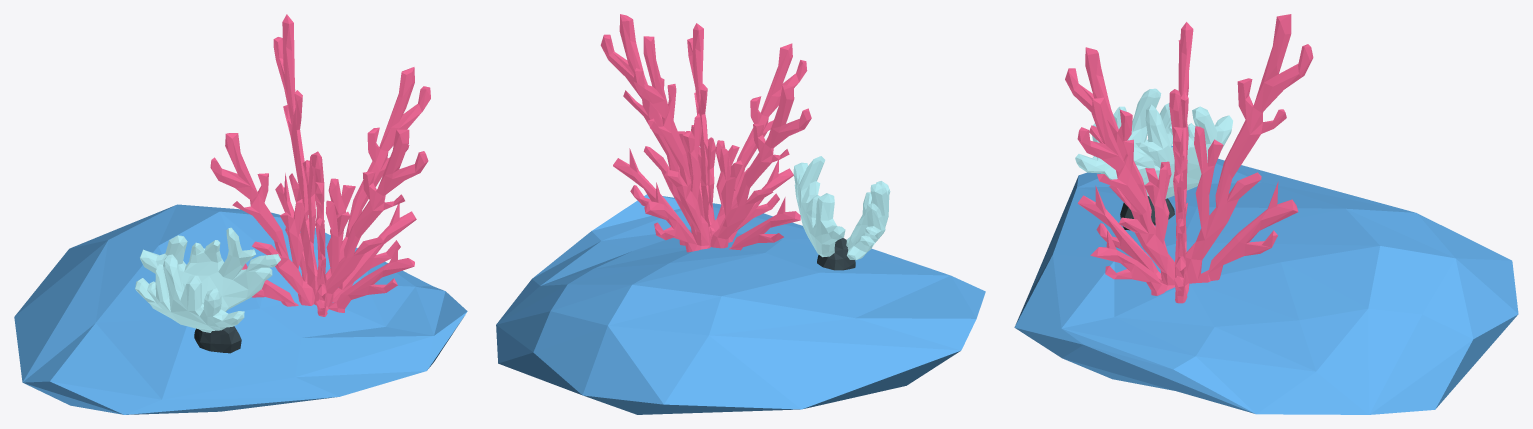
The model's file is Coralls_001.glb.
3 views of the same model, side by side, from view 1: azimuth 30°, elevation 25°; view 2: azimuth 150°, elevation 25°; view 3: azimuth 270°, elevation 25° (orthographic). The views are drawn at different scales.
Parts seen in each view (by area): view 1: Coralls_001; view 2: Coralls_001; view 3: Coralls_001.
Boxes of the visible parts, x1,y1,x2,y2 form: Coralls_001: (14, 14, 467, 414); Coralls_001: (496, 14, 985, 414); Coralls_001: (1014, 14, 1518, 414).
Bounding box in the file's own units: 2.19 × 1.63 × 2.
Materials: 2 (2 with a texture image).
